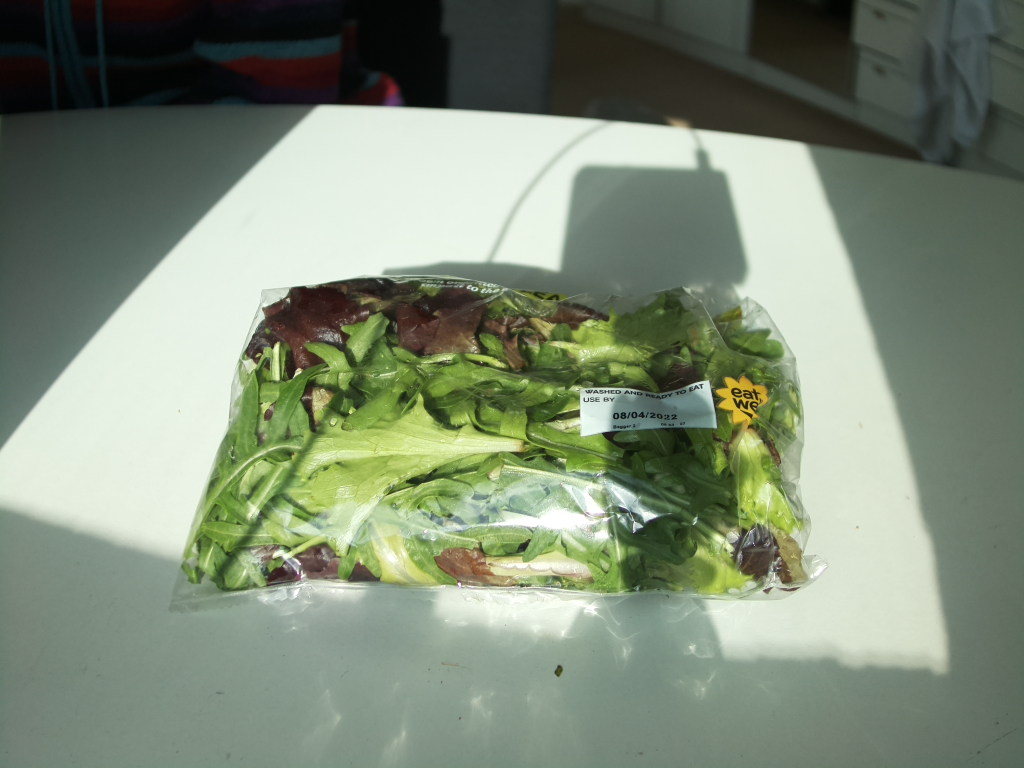salad: (161, 268, 815, 608)
